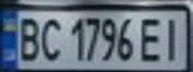1: (63, 14, 84, 61)
6: (115, 15, 139, 62)
7: (81, 14, 100, 62)
9: (100, 14, 121, 62)
B: (12, 14, 42, 62)
C: (36, 15, 63, 62)
E: (136, 14, 166, 63)
I: (157, 14, 187, 62)
